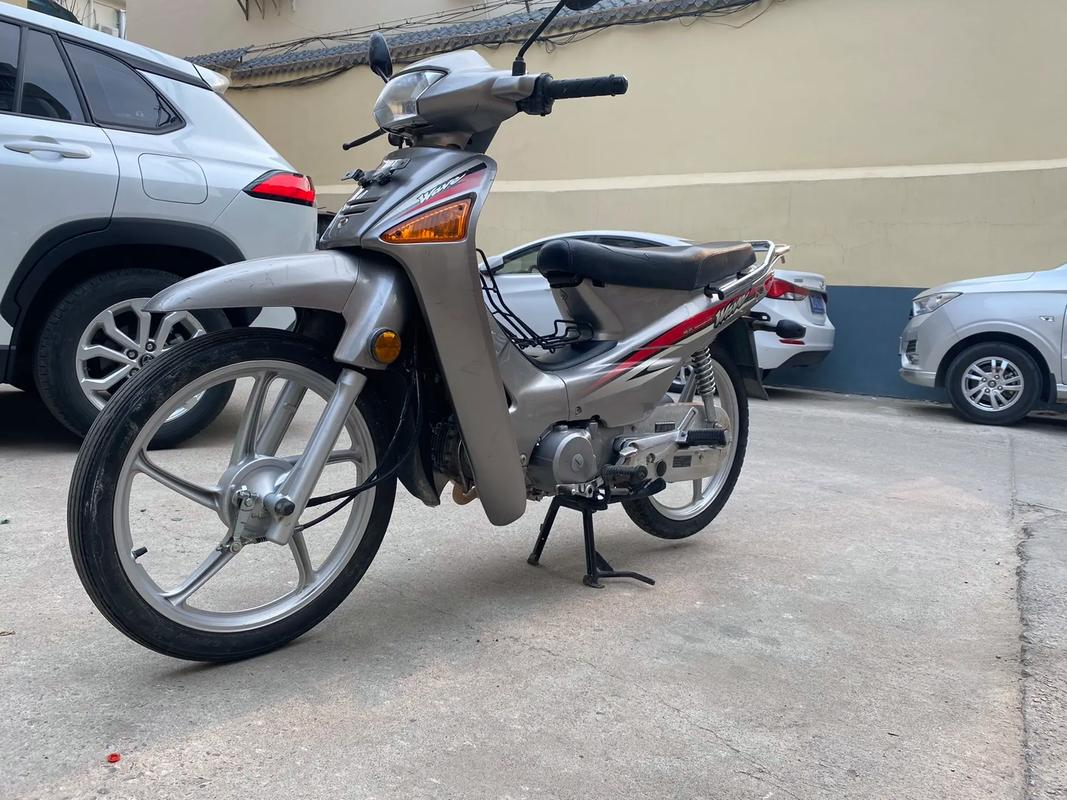摩托车: (97, 1, 776, 684)
